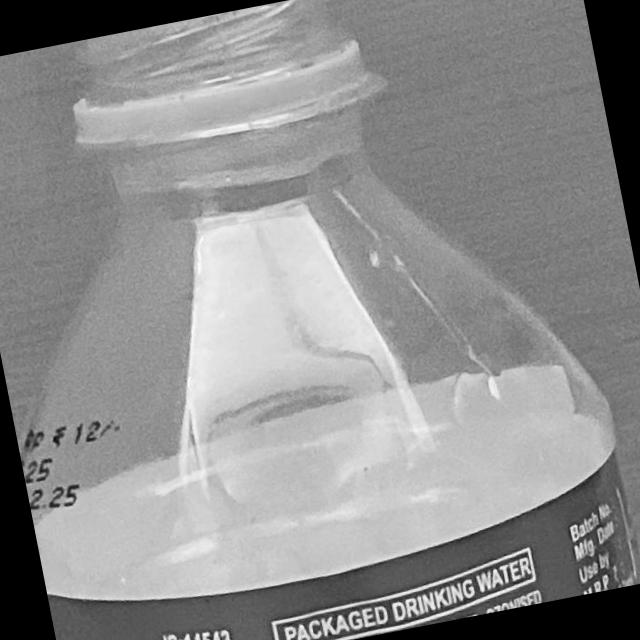open-cap: (53, 0, 388, 177)
